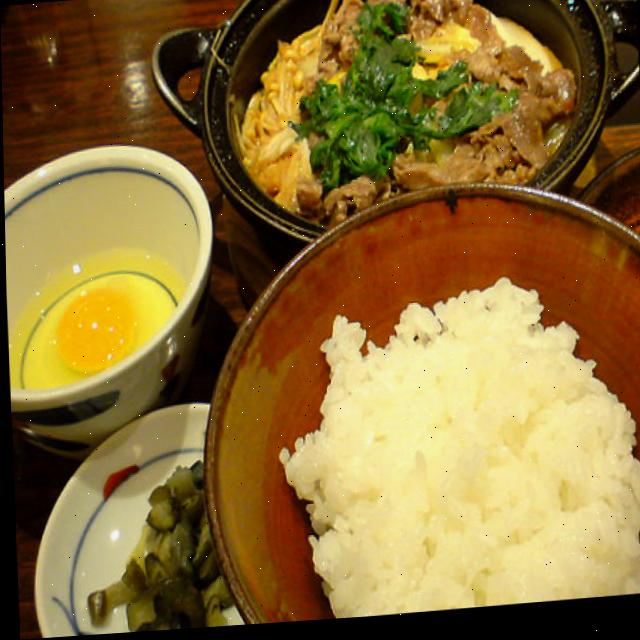米饭主食: (203, 168, 640, 630)
